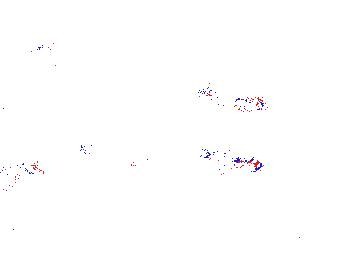red belly glassfish: (199, 77, 269, 113), (196, 143, 264, 175)
redtail glassfish: (78, 142, 159, 175), (1, 20, 59, 57), (1, 152, 48, 193)
